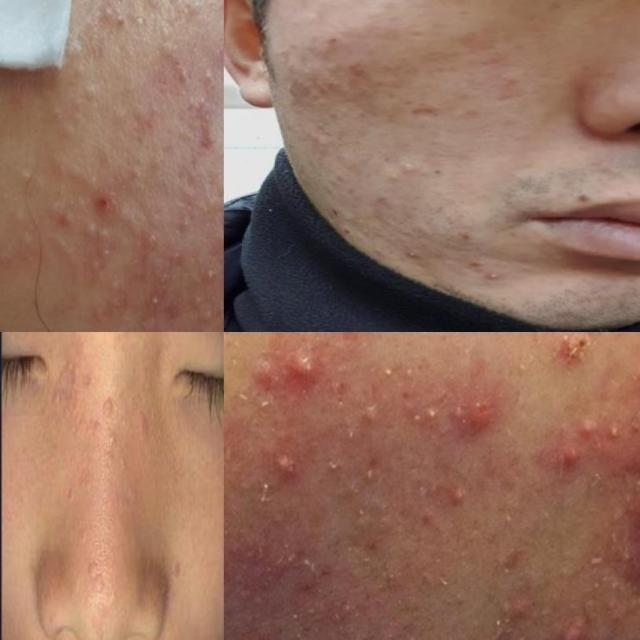acne_scars: (405, 98, 453, 133)
comedone: (440, 466, 478, 522), (378, 158, 426, 193), (98, 4, 142, 40), (372, 357, 408, 397), (85, 222, 114, 270), (79, 77, 114, 107), (55, 230, 83, 267), (196, 296, 224, 332), (195, 62, 223, 96), (15, 155, 42, 188), (126, 156, 152, 187), (418, 398, 440, 433), (324, 452, 347, 482), (199, 259, 223, 287), (292, 61, 322, 81), (142, 286, 160, 318), (182, 211, 198, 242), (308, 92, 338, 108)
flat_wart: (80, 556, 112, 636), (60, 352, 79, 458), (160, 548, 193, 598), (75, 495, 98, 556), (106, 441, 136, 487), (100, 386, 130, 428)
papule: (440, 340, 520, 449), (246, 356, 276, 413), (547, 606, 588, 640), (557, 439, 586, 487)
pustule: (280, 336, 334, 406), (480, 266, 520, 298), (270, 446, 301, 482)
sebo-crystan-conglo: (592, 362, 640, 466), (441, 402, 514, 446), (545, 332, 600, 385)
